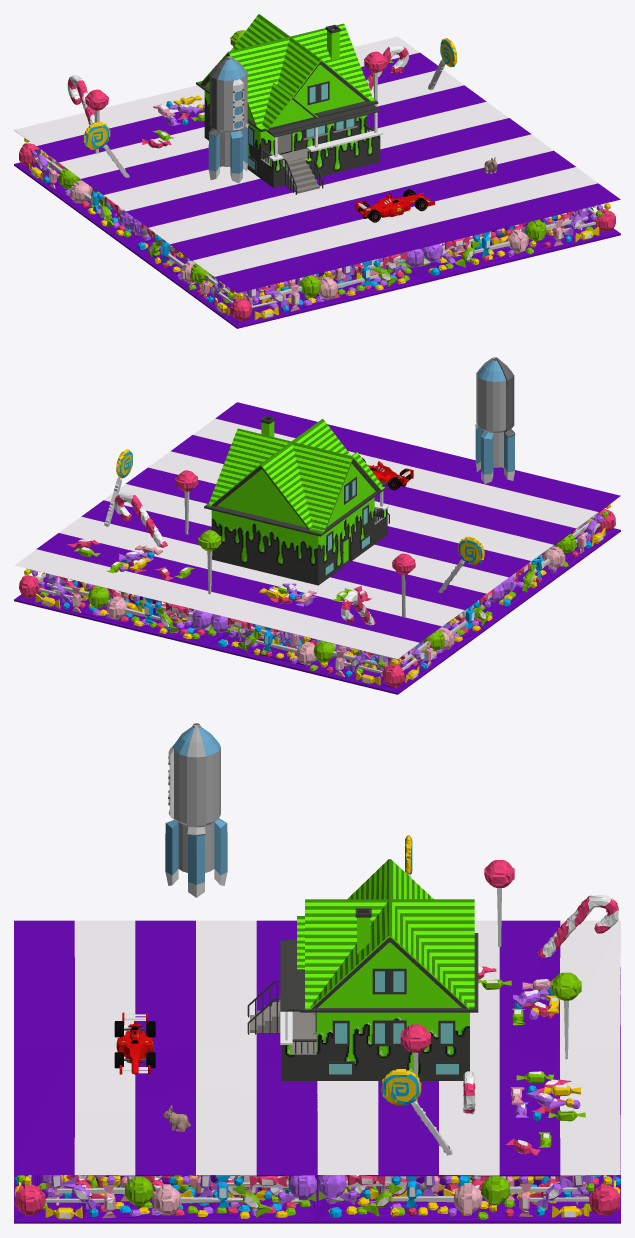
3 renders of one model, top to bottom at view 1: azimuth 30°, elevation 25°; view 2: azimuth 150°, elevation 25°; view 3: azimuth 270°, elevation 25°, orthographic. The views are drawn at different scales.
Parts seen in each view (by area): view 1: TERRAIN_CANDY, Cube.754, OBJRANDOM_ROCKETSHIP, VEHICLES_FORMULA_1; view 2: TERRAIN_CANDY, Cube.754, OBJRANDOM_ROCKETSHIP, VEHICLES_FORMULA_1; view 3: TERRAIN_CANDY, Cube.754, OBJRANDOM_ROCKETSHIP, VEHICLES_FORMULA_1.
Part boxes in pixels (bbox=[...]): TERRAIN_CANDY: bbox=[14, 30, 620, 328]; Cube.754: bbox=[196, 14, 383, 194]; OBJRANDOM_ROCKETSHIP: bbox=[208, 56, 248, 183]; VEHICLES_FORMULA_1: bbox=[355, 189, 434, 222]; TERRAIN_CANDY: bbox=[14, 402, 620, 694]; Cube.754: bbox=[204, 415, 389, 585]; OBJRANDOM_ROCKETSHIP: bbox=[475, 357, 515, 483]; VEHICLES_FORMULA_1: bbox=[362, 458, 413, 490]; TERRAIN_CANDY: bbox=[14, 835, 620, 1223]; Cube.754: bbox=[247, 859, 478, 1080]; OBJRANDOM_ROCKETSHIP: bbox=[165, 723, 227, 897]; VEHICLES_FORMULA_1: bbox=[114, 1012, 155, 1074].
Size of the model in its own units: 4059 by 2137 by 4000.
36 materials, 3 textured.
